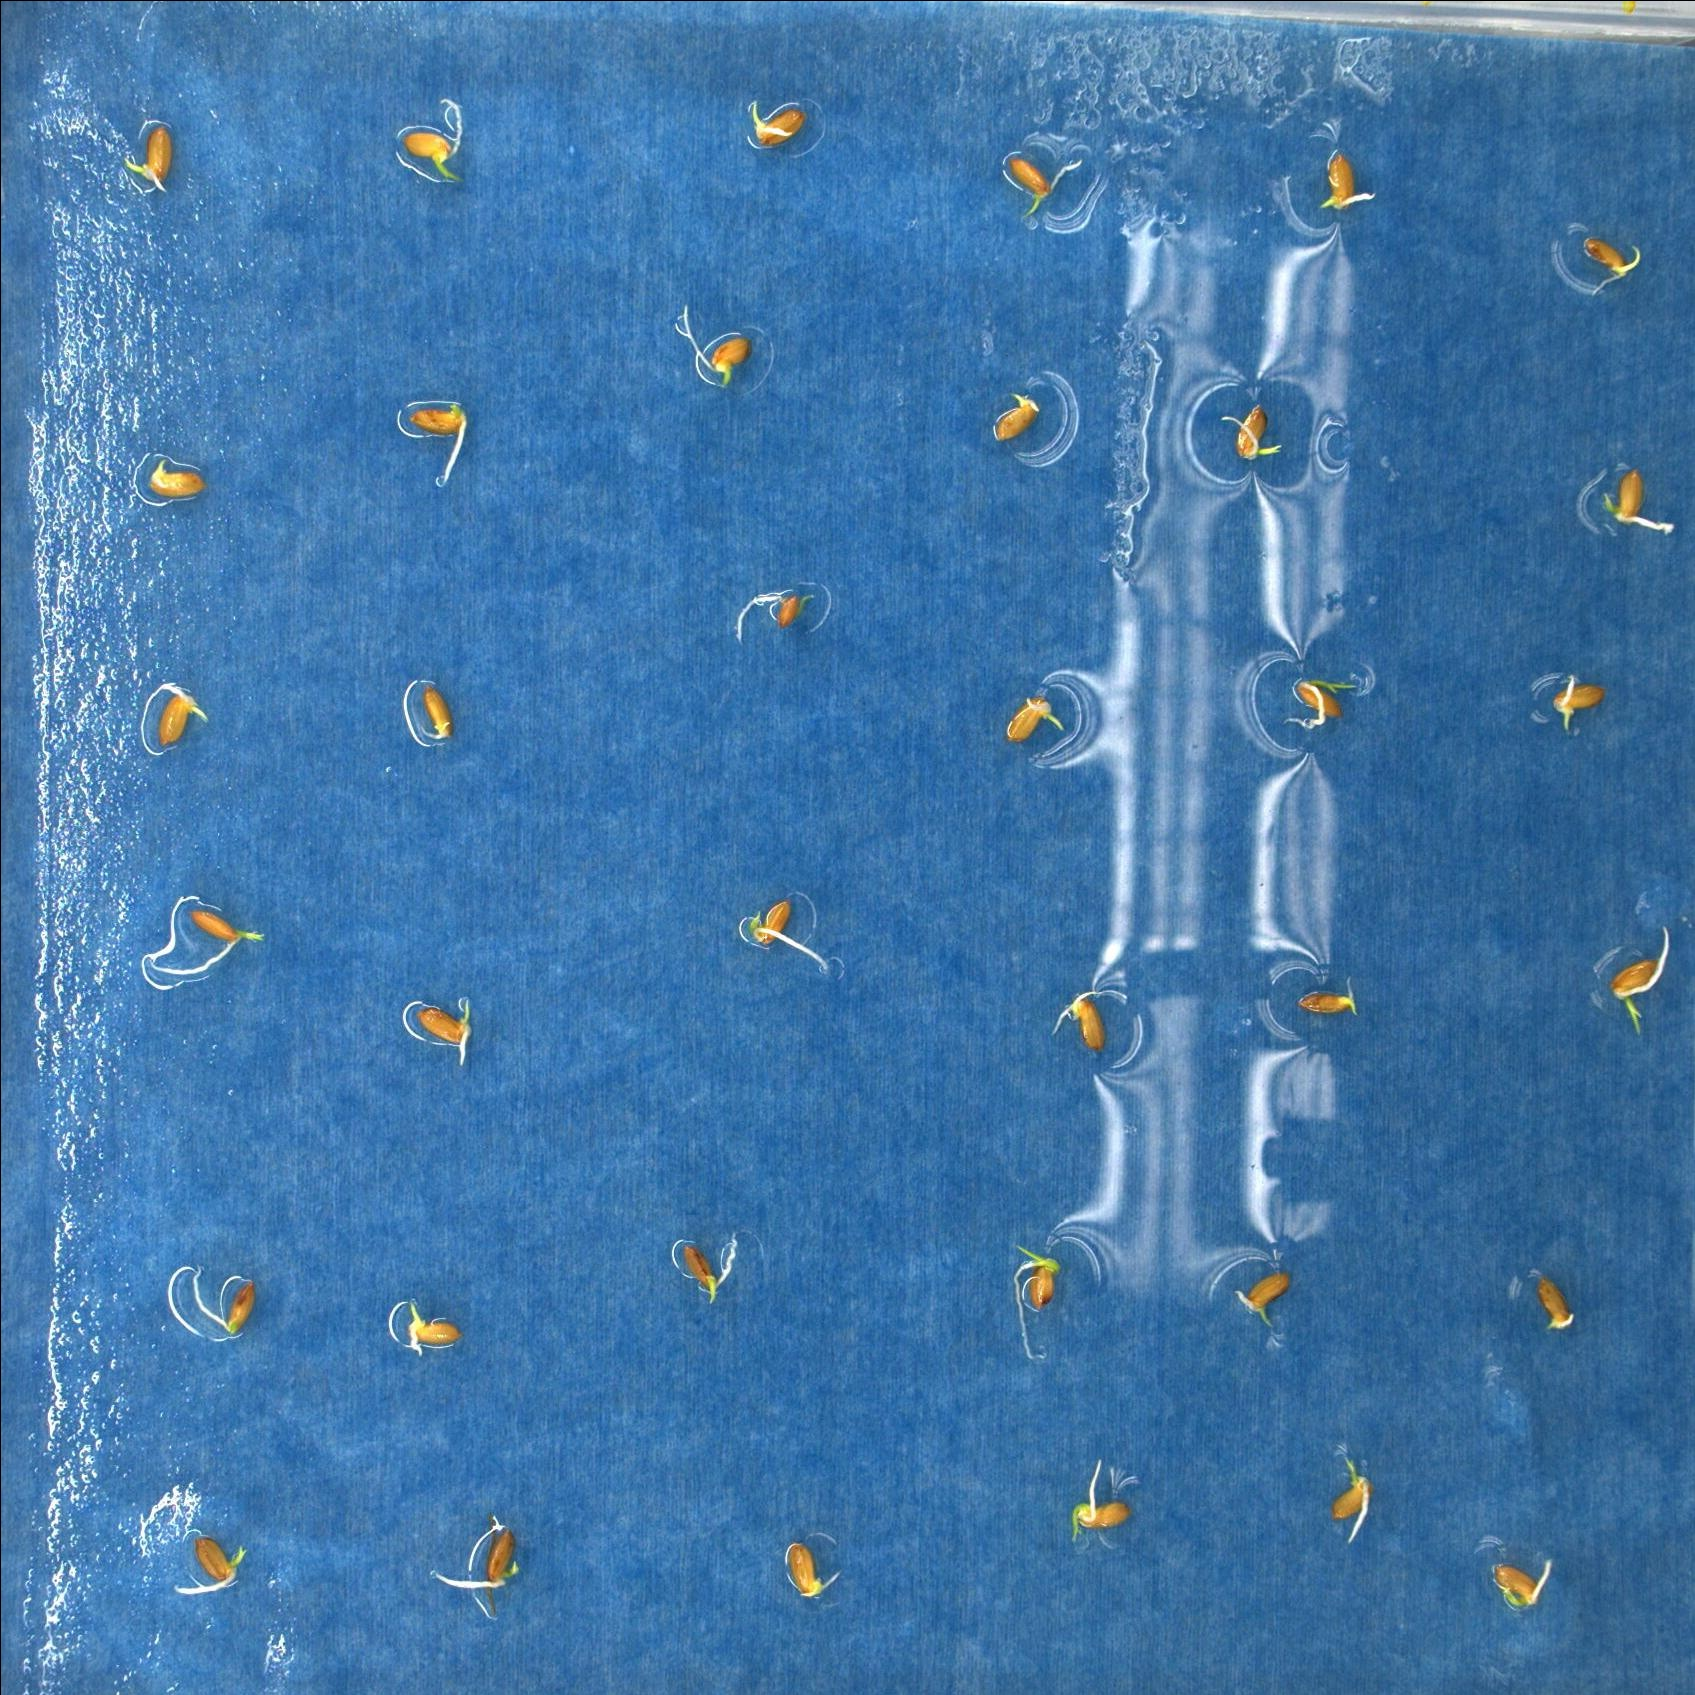not sprout: (432, 1513, 523, 1620), (748, 896, 827, 975), (140, 677, 211, 754), (405, 397, 464, 490), (186, 1263, 261, 1336), (1600, 466, 1673, 534), (1049, 990, 1125, 1054), (1579, 224, 1641, 296), (737, 587, 810, 646), (1316, 151, 1380, 214), (404, 1305, 463, 1361), (1000, 692, 1063, 744), (1529, 1268, 1579, 1332), (785, 1543, 841, 1599), (1557, 667, 1603, 730), (1291, 973, 1357, 1015), (987, 393, 1042, 439), (143, 459, 200, 498), (424, 681, 452, 740)
sprout: (147, 908, 267, 973), (1607, 927, 1669, 1037), (400, 93, 464, 192), (681, 301, 751, 386), (1012, 1240, 1062, 1358), (1069, 1456, 1135, 1541), (175, 1524, 248, 1599), (1010, 154, 1082, 225), (678, 1229, 740, 1305), (1229, 1270, 1291, 1336), (123, 118, 175, 196), (1287, 677, 1357, 733), (416, 997, 473, 1062), (1489, 1557, 1554, 1613), (1333, 1450, 1371, 1544), (1223, 404, 1284, 461), (744, 99, 812, 143)
